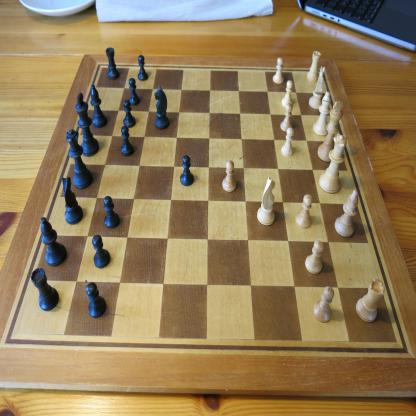black-bishop: (40, 217, 67, 266), (90, 84, 108, 128)
black-king: (65, 128, 93, 190), (74, 92, 100, 157)
black-knight: (61, 177, 84, 225), (154, 85, 170, 130)
black-pawn: (85, 282, 107, 318), (92, 234, 110, 269), (103, 195, 120, 229), (180, 155, 194, 186), (121, 125, 134, 157), (123, 99, 136, 128), (128, 77, 140, 106), (138, 54, 148, 81)
black-rook: (30, 268, 60, 311), (106, 47, 119, 80)
white-bishop: (334, 189, 359, 238), (312, 91, 331, 136)
white-king: (317, 100, 344, 162)
white-knight: (256, 176, 275, 226), (308, 66, 325, 110)
white-pawn: (312, 285, 334, 323), (304, 240, 324, 275), (295, 194, 313, 229), (222, 160, 236, 193), (281, 127, 294, 157), (280, 103, 293, 132), (272, 57, 284, 84), (281, 80, 293, 107)
white-queen: (318, 133, 348, 194)
white-rook: (355, 279, 385, 323), (306, 50, 322, 82)
